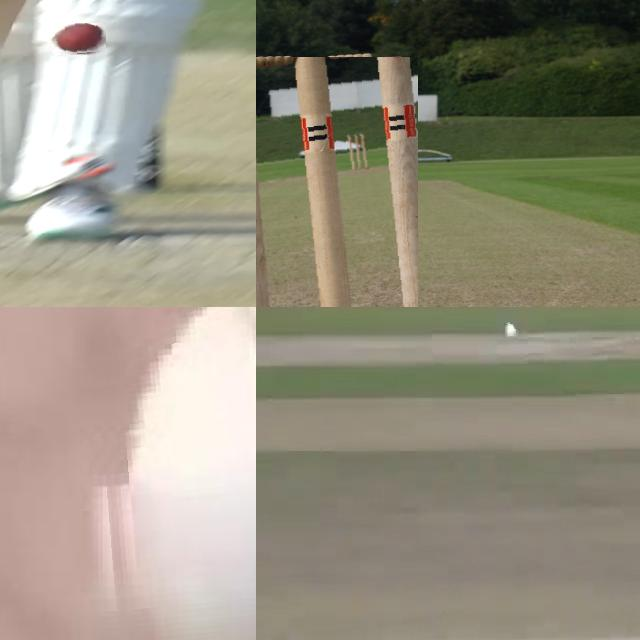Cricket ball: (89, 307, 256, 640), (48, 23, 106, 56), (502, 318, 518, 344)
Stumps: (256, 57, 418, 307), (335, 146, 360, 186)
